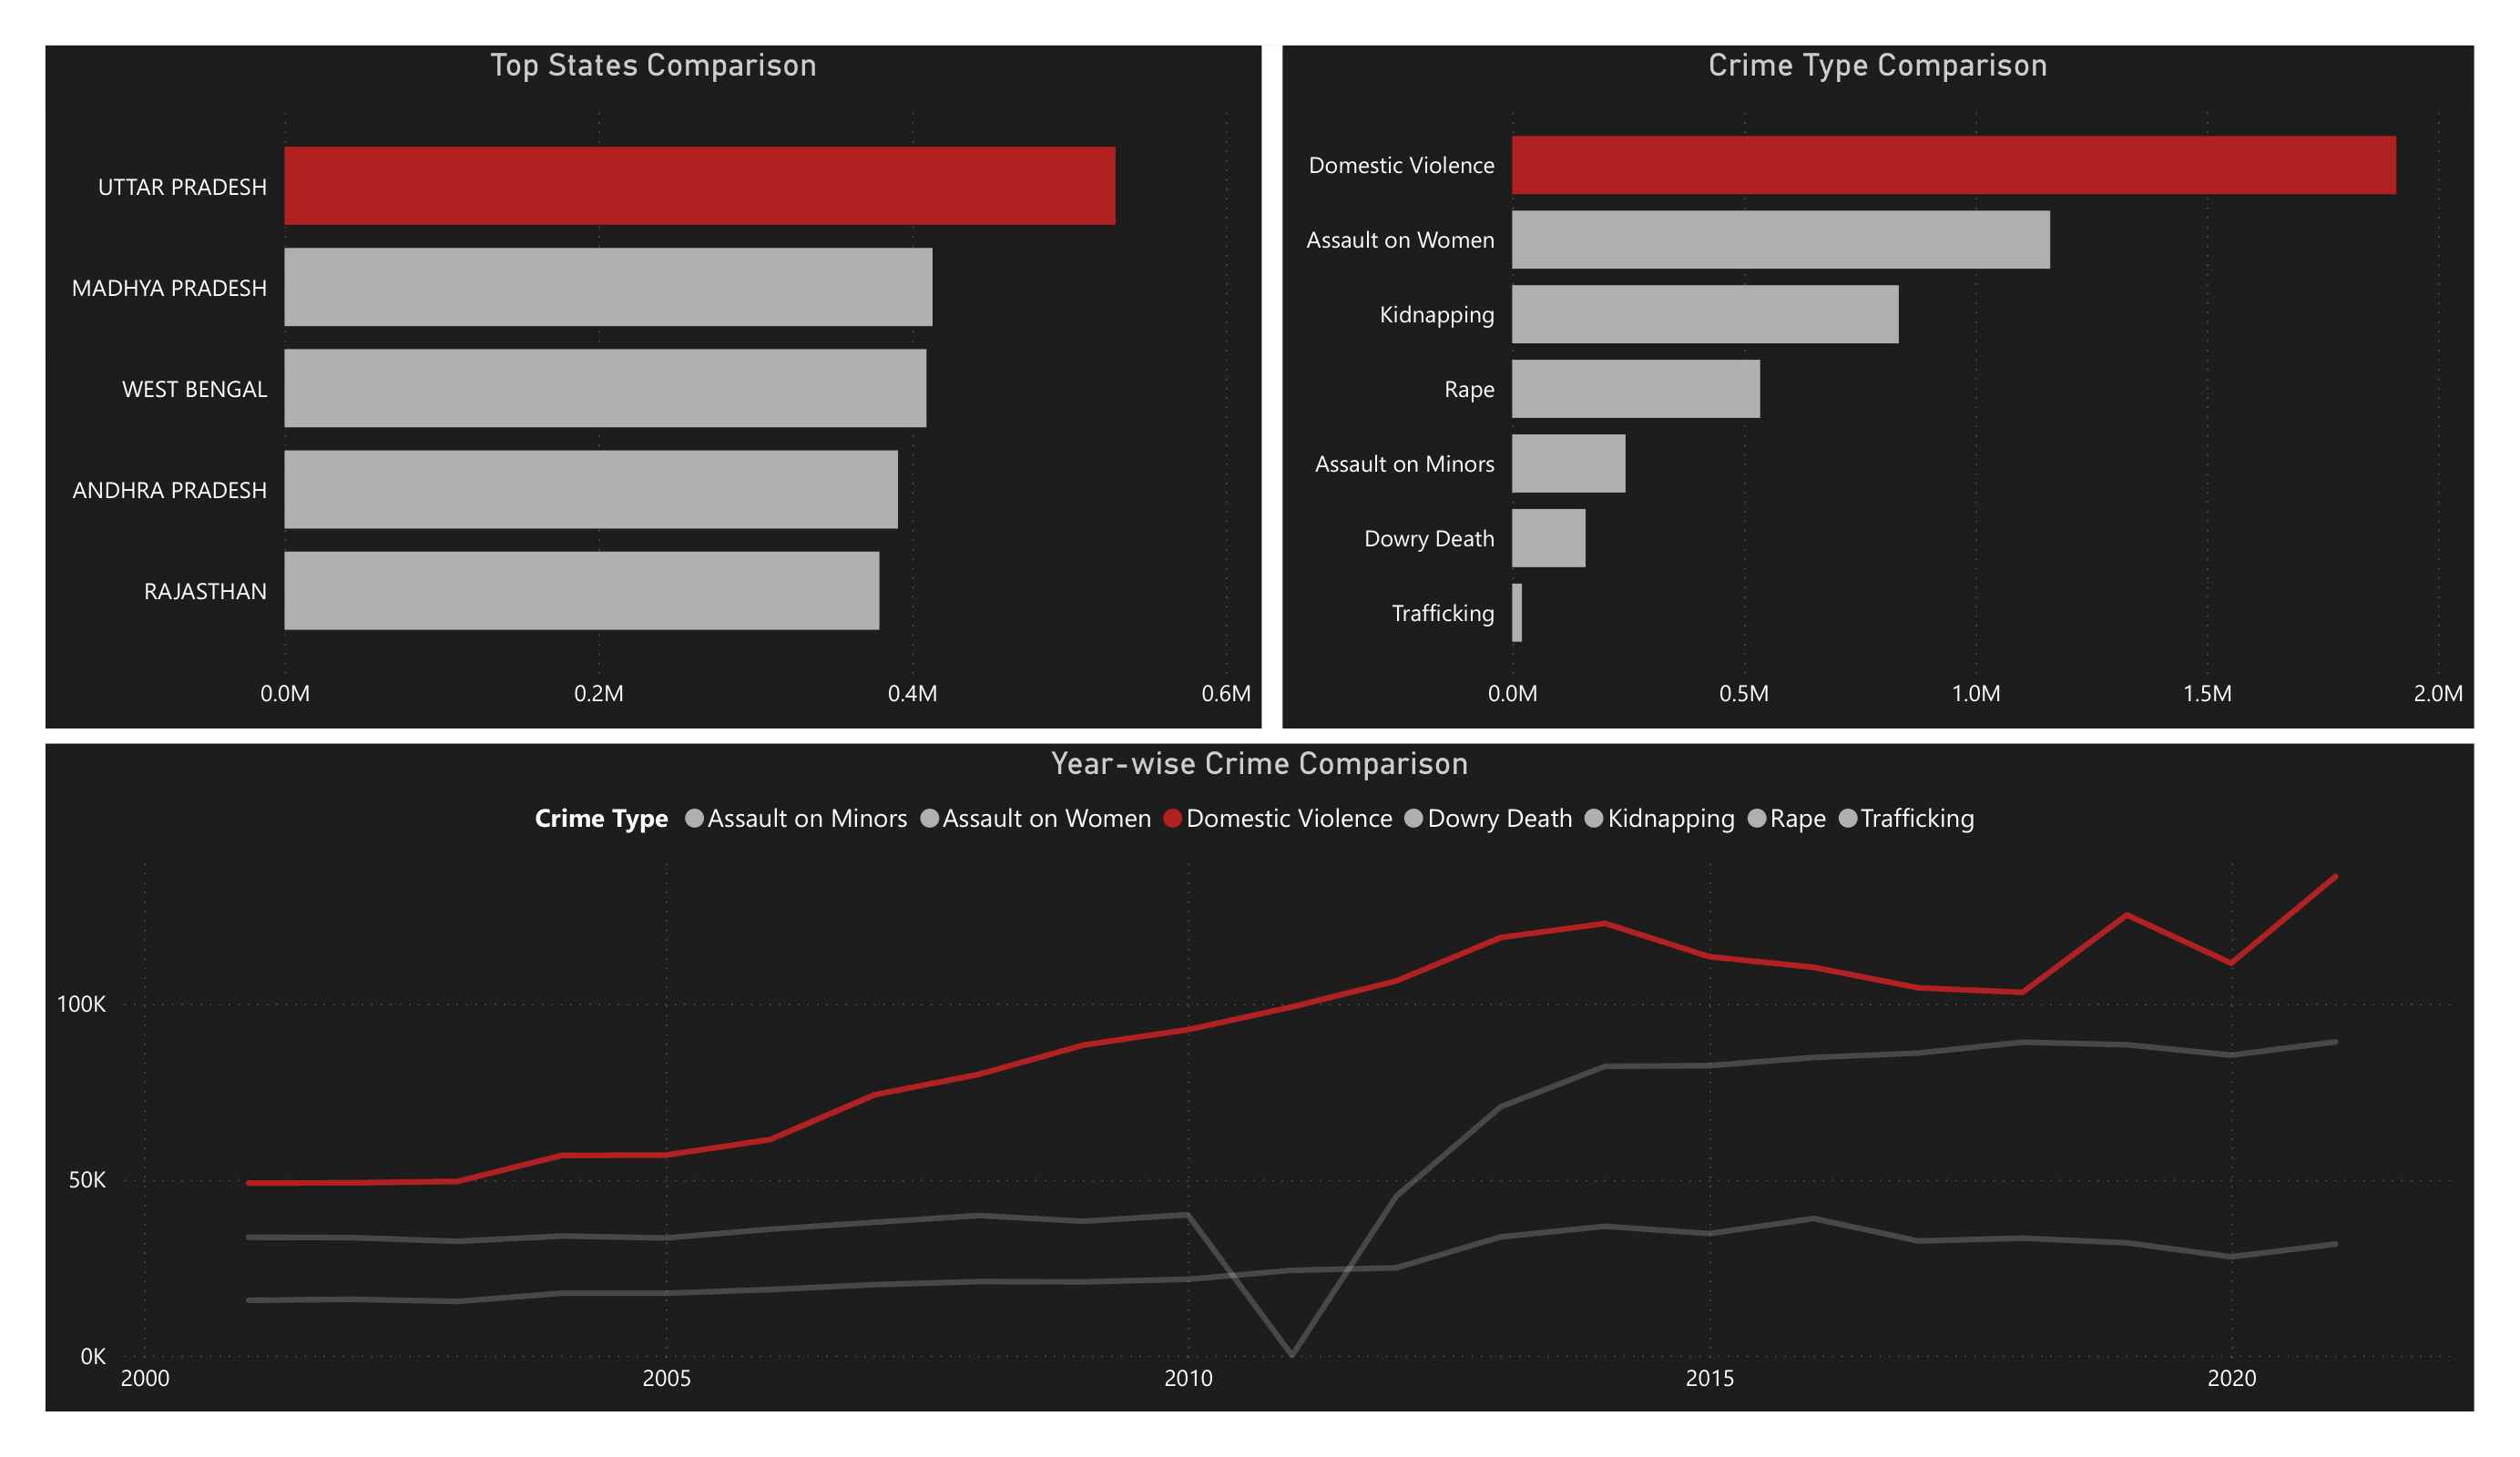

The dashboard page shown, as its layout file describes it:
{"tool":"powerbi","page":{"name":"Insights & Findings","canvas":[1280,720],"ordinal":2},"visuals":[{"type":"clusteredBarChart","title":"Top States Comparison","fields":{"Category":["CrimesOnWomenData.State"],"Y":["Sum(CrimesOnWomenData.Cases)"]},"box":[0,0,640.6,359.5],"z":0},{"type":"clusteredBarChart","title":"Crime Type Comparison","fields":{"Category":["CrimesOnWomenData.Crime Type"],"Y":["Sum(CrimesOnWomenData.Cases)"]},"box":[651.8,0,628.2,359.5],"z":1000},{"type":"lineChart","title":"Year-wise Crime Comparison","fields":{"Category":["CrimesOnWomenData.Year"],"Y":["Sum(CrimesOnWomenData.Cases)"],"Series":["CrimesOnWomenData.Crime Type"]},"box":[0,368.2,1280,352],"z":2000}]}

Visuals, with their boxes on the page's 1280x720 design canvas (x1, y1, x2, y2). These are canvas units, not pixel positions in the 2520x1457 screenshot, which may show the page scaled, cropped or inside an application window:
"Top States Comparison" clusteredBarChart: 0:0:641:360
"Crime Type Comparison" clusteredBarChart: 652:0:1280:360
"Year-wise Crime Comparison" lineChart: 0:368:1280:720
